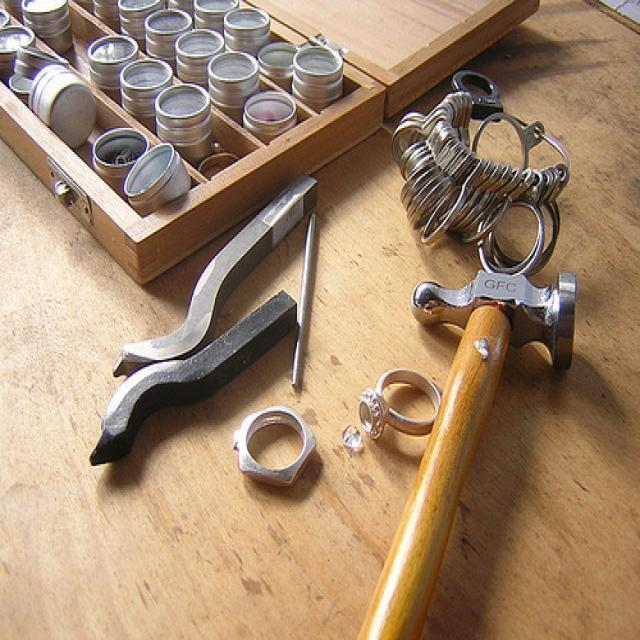hammer: (344, 261, 588, 640)
